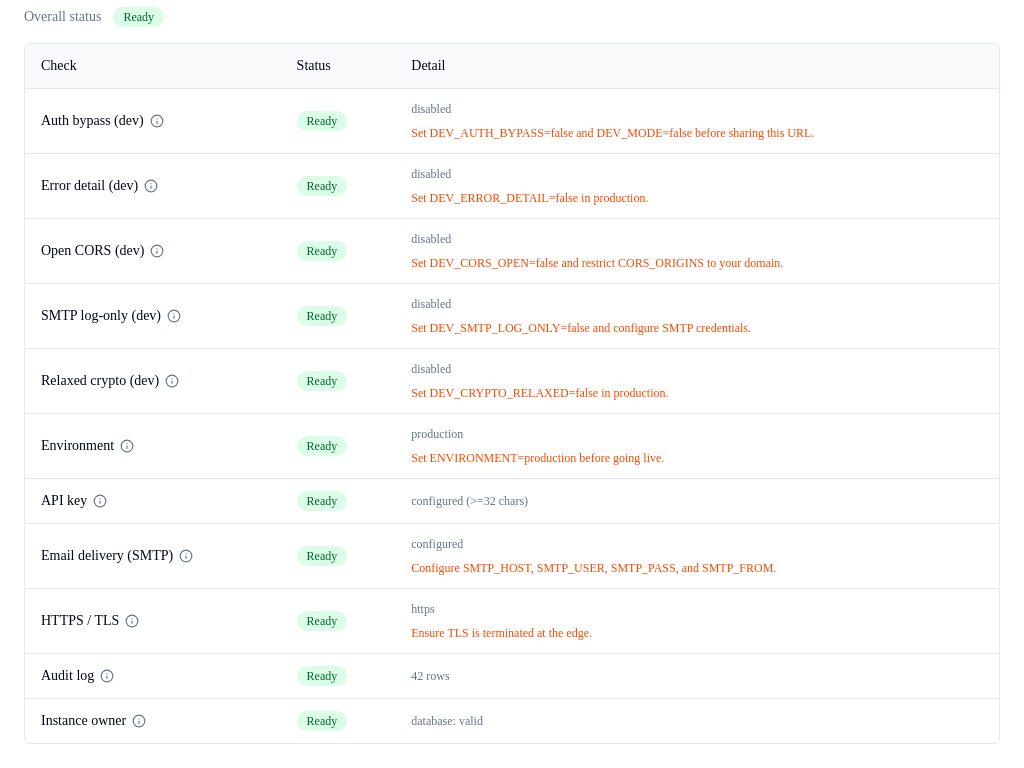
Test: AdminSystemHealthPage › explains the instance-owner readiness check in plain language
This screenshot has width=1024, height=768.
(page scrolled)
Expected: the text "Instance owner" is shown, [41,711,126,731]
Step 1. Hover over the button named "More info" next to "Instance owner" → (139, 721), box [132,714,146,728]
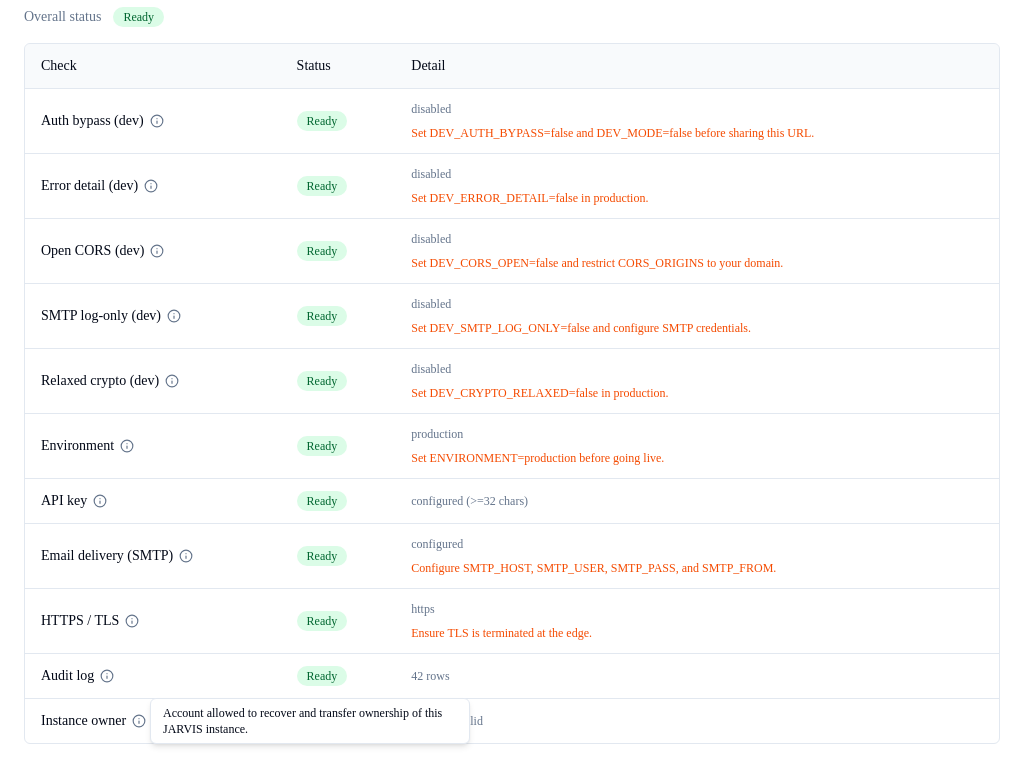
Result: the tooltip "Account allowed to recover and transfer ownership" is shown at [163,706,442,736]
